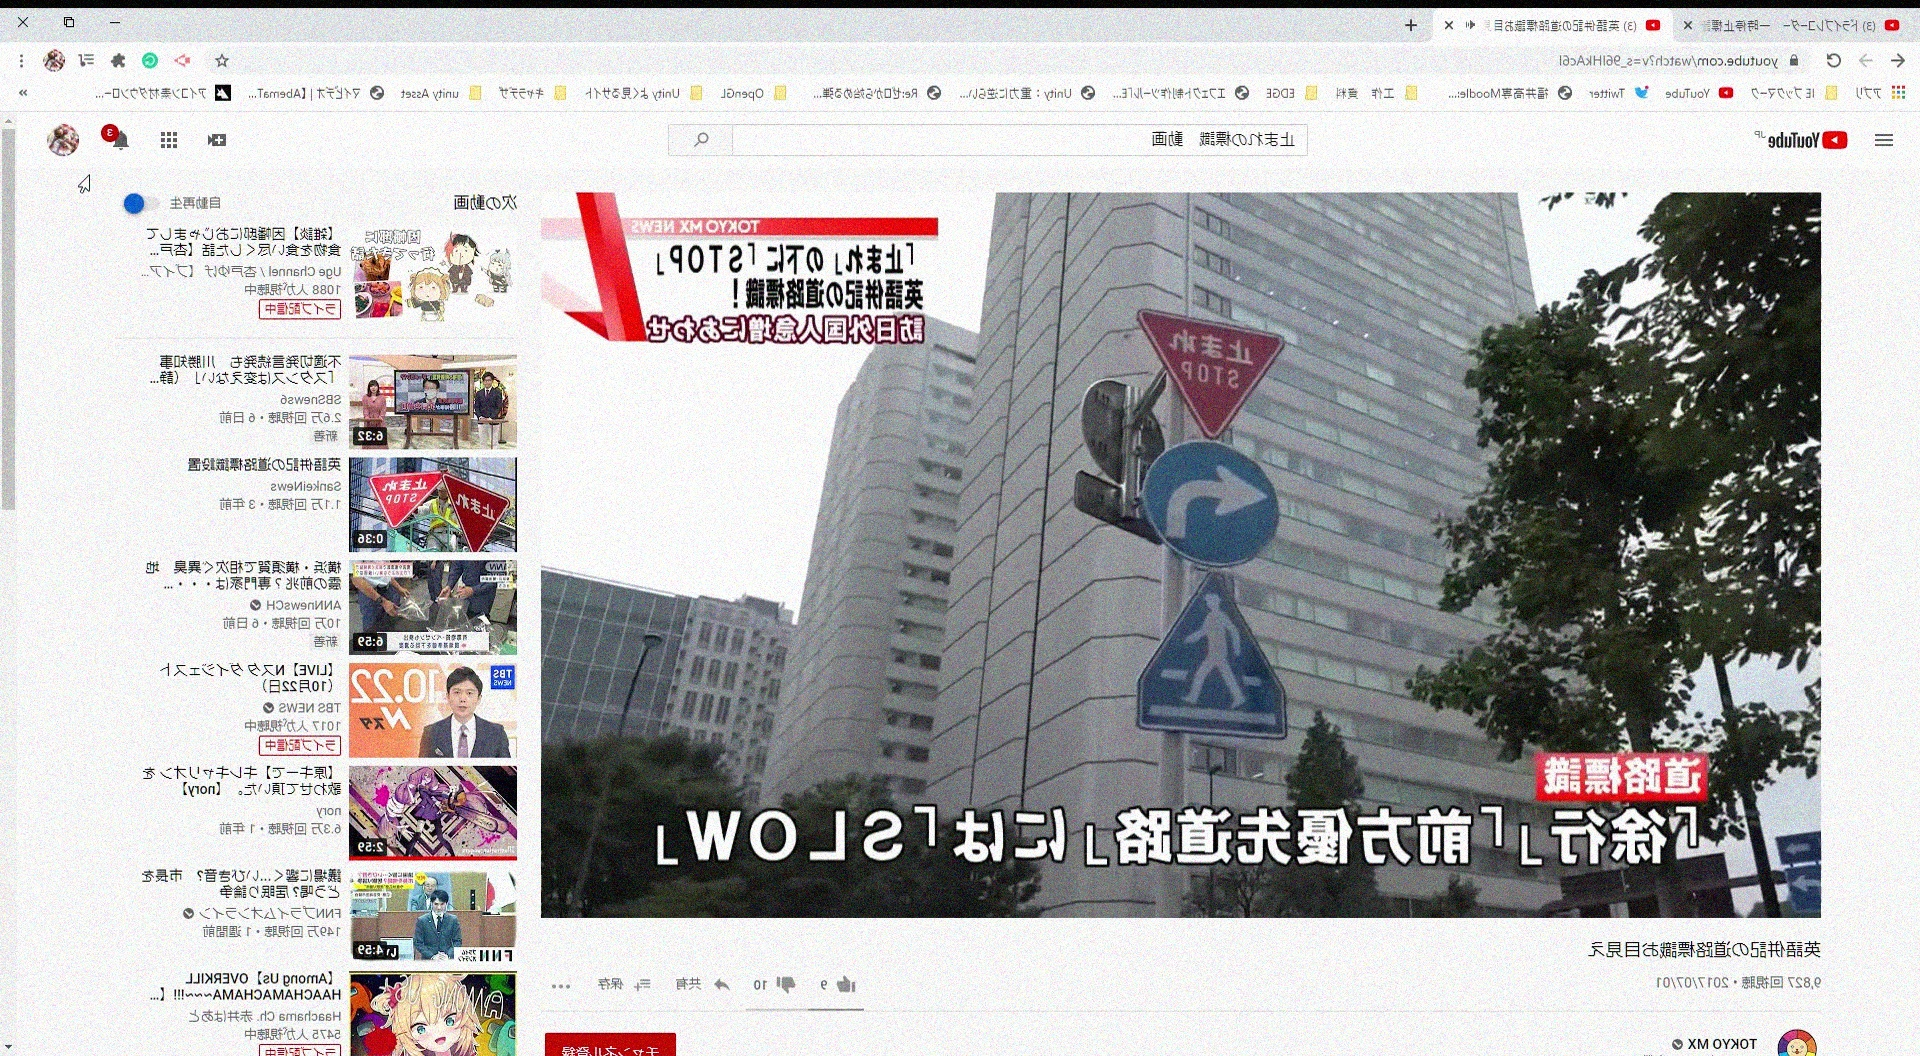Regulatory_sign_triangle: (1136, 304, 1314, 440)
